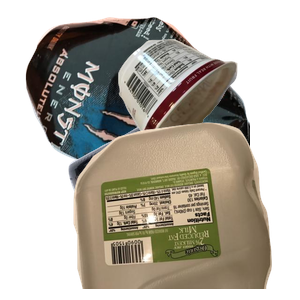glass: (66, 120, 300, 300)
metal: (23, 15, 263, 195)
plastic: (71, 120, 300, 300)
trash: (116, 36, 300, 187)
